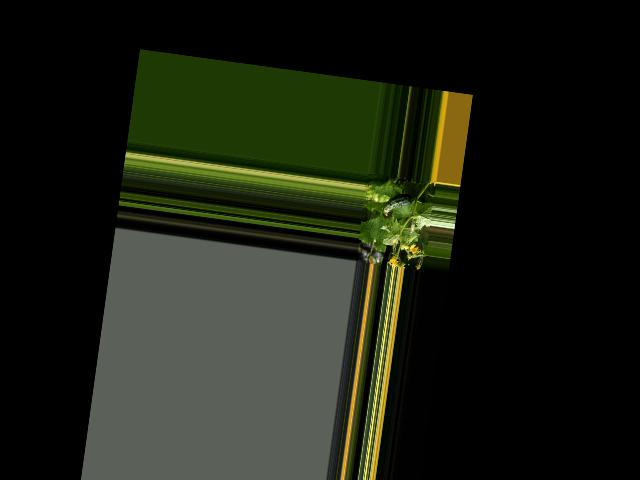cucumber: (382, 191, 413, 219)
